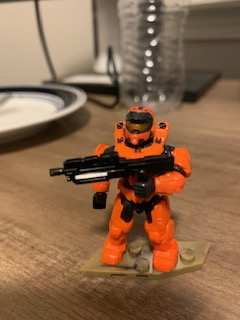rifle: (47, 147, 176, 195)
spartan: (89, 105, 195, 275)
